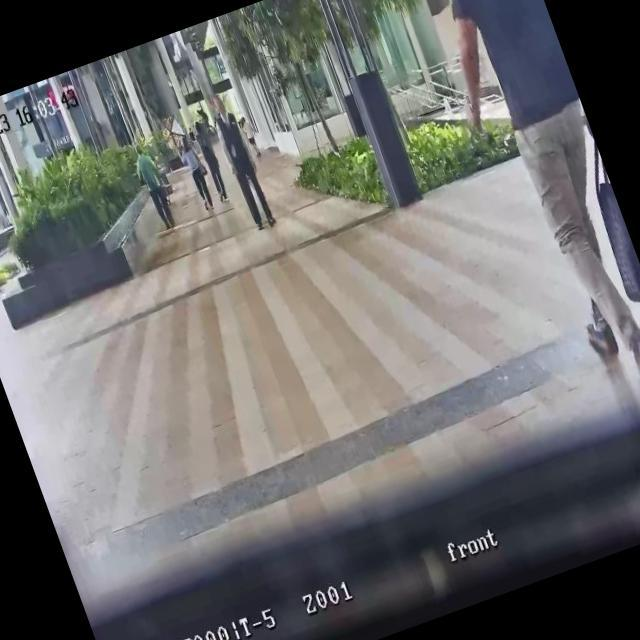person: (405, 0, 640, 392), (204, 88, 280, 234), (128, 142, 180, 234), (173, 130, 220, 214), (190, 116, 233, 204), (238, 114, 262, 158)
